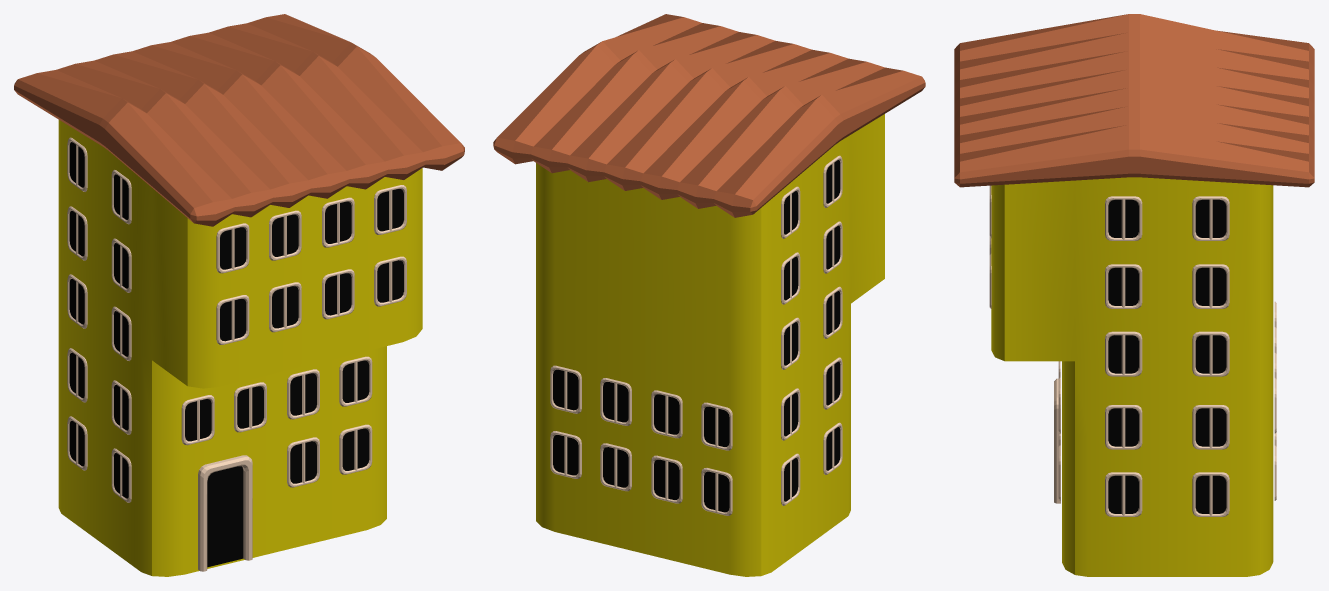
File: Büyük_Katlı_Brezilya_Evi.fbx
The picture shows the model from 3 angles, left to right: view 1: azimuth 30°, elevation 25°; view 2: azimuth 150°, elevation 25°; view 3: azimuth 270°, elevation 25°; orthographic projection. The views are drawn at different scales.
Visible parts, largest first — view 1: Cube.008; view 2: Cube.008; view 3: Cube.008.
Part boxes in pixels (x1,y1,x2,y2): Cube.008: (14,14,464,576); Cube.008: (493,14,925,576); Cube.008: (954,14,1314,576).
Size of the model in its own units: 102 by 160 by 117.
